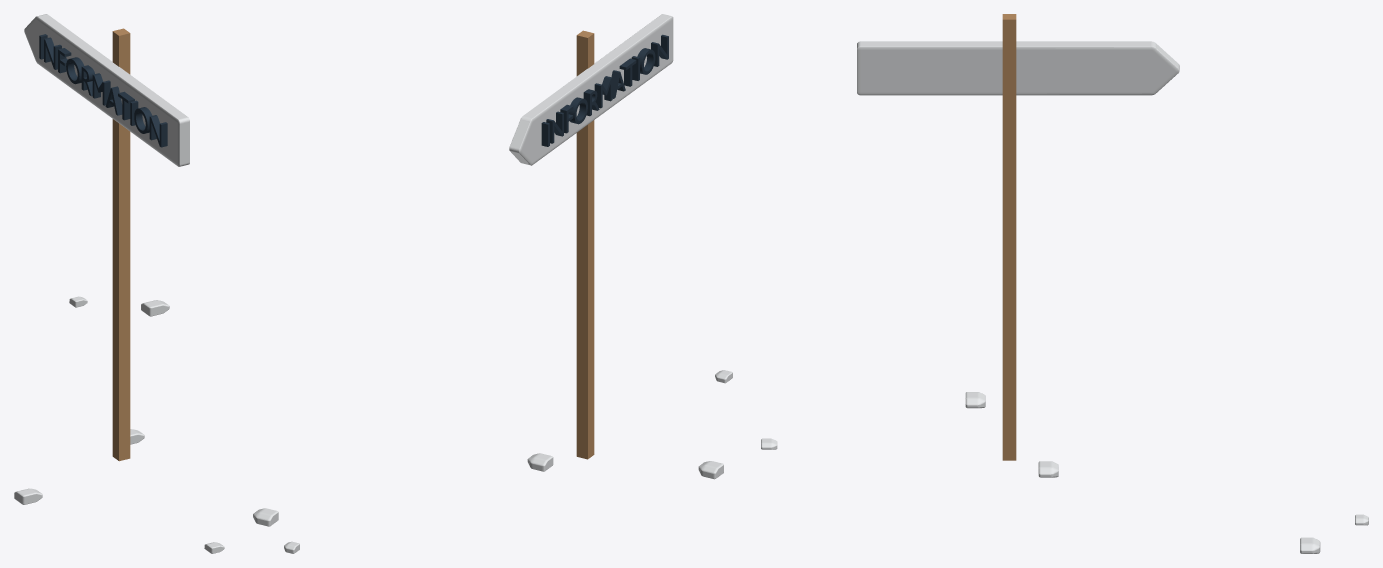
The model's file is signInformation.glb.
3 renders of one model, left to right at view 1: azimuth 30°, elevation 25°; view 2: azimuth 150°, elevation 25°; view 3: azimuth 270°, elevation 25°, orthographic. The views are drawn at different scales.
Visible parts, largest first — view 1: Cube, Cube.001, Text.001, Cube.003, Cube.004; view 2: Cube, Cube.001, Text.001; view 3: Cube.001, Cube.
Boxes of the visible parts, x1=… form: Cube: x1=112, y1=28, x2=130, y2=461; Cube.001: x1=24, y1=14, x2=189, y2=166; Text.001: x1=39, y1=34, x2=167, y2=147; Cube.003: x1=14, y1=488, x2=42, y2=504; Cube.004: x1=141, y1=300, x2=169, y2=316; Cube: x1=576, y1=30, x2=594, y2=459; Cube.001: x1=509, y1=14, x2=673, y2=165; Text.001: x1=541, y1=34, x2=668, y2=146; Cube.001: x1=857, y1=41, x2=1179, y2=95; Cube: x1=1002, y1=14, x2=1016, y2=460.
Bounding box in the file's own units: 13.67 × 18.16 × 22.49.
